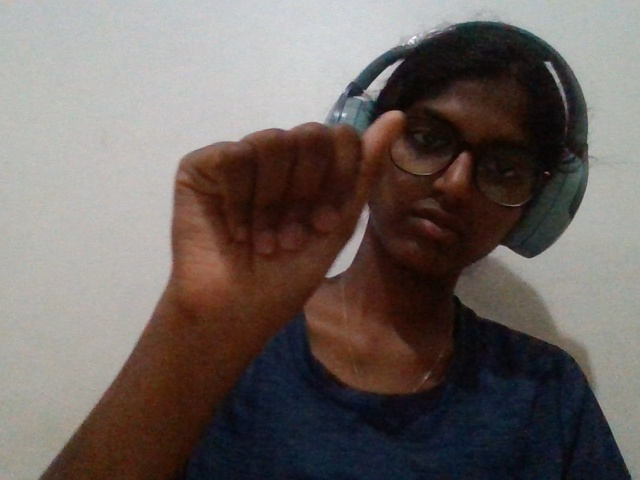A: (130, 99, 424, 378)
